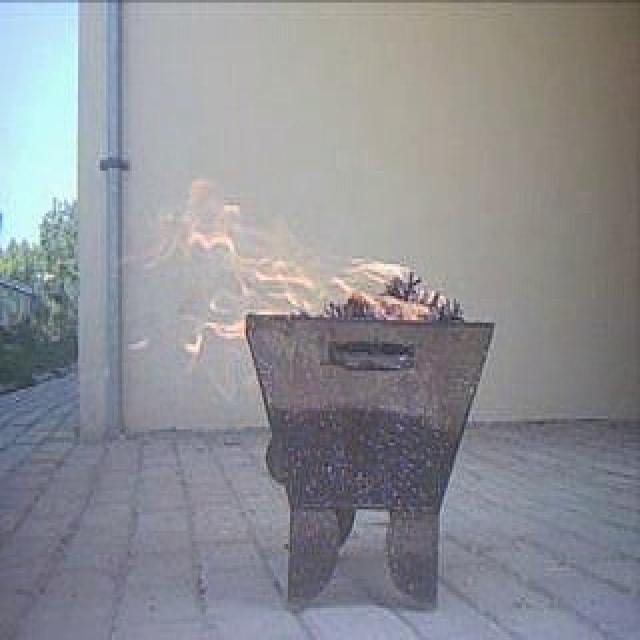Fire: (136, 184, 442, 354)
